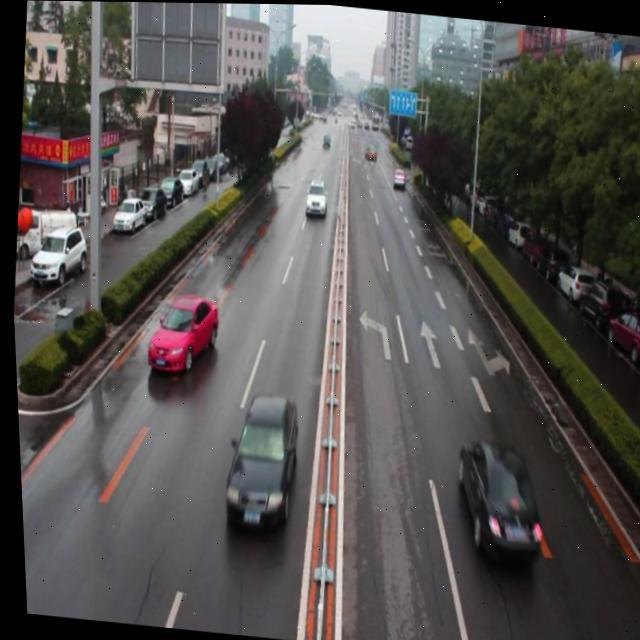car: (443, 429, 548, 567), (213, 386, 300, 531), (140, 289, 219, 376), (300, 176, 327, 218), (389, 162, 406, 188)
